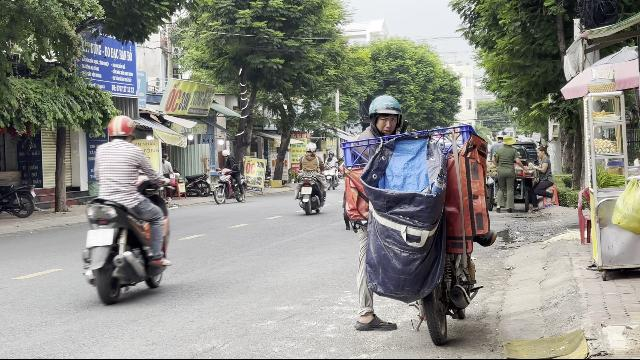helmet: (106, 115, 134, 141)
licenseplate: (86, 229, 114, 246)
motorcyclist: (80, 112, 172, 303)
